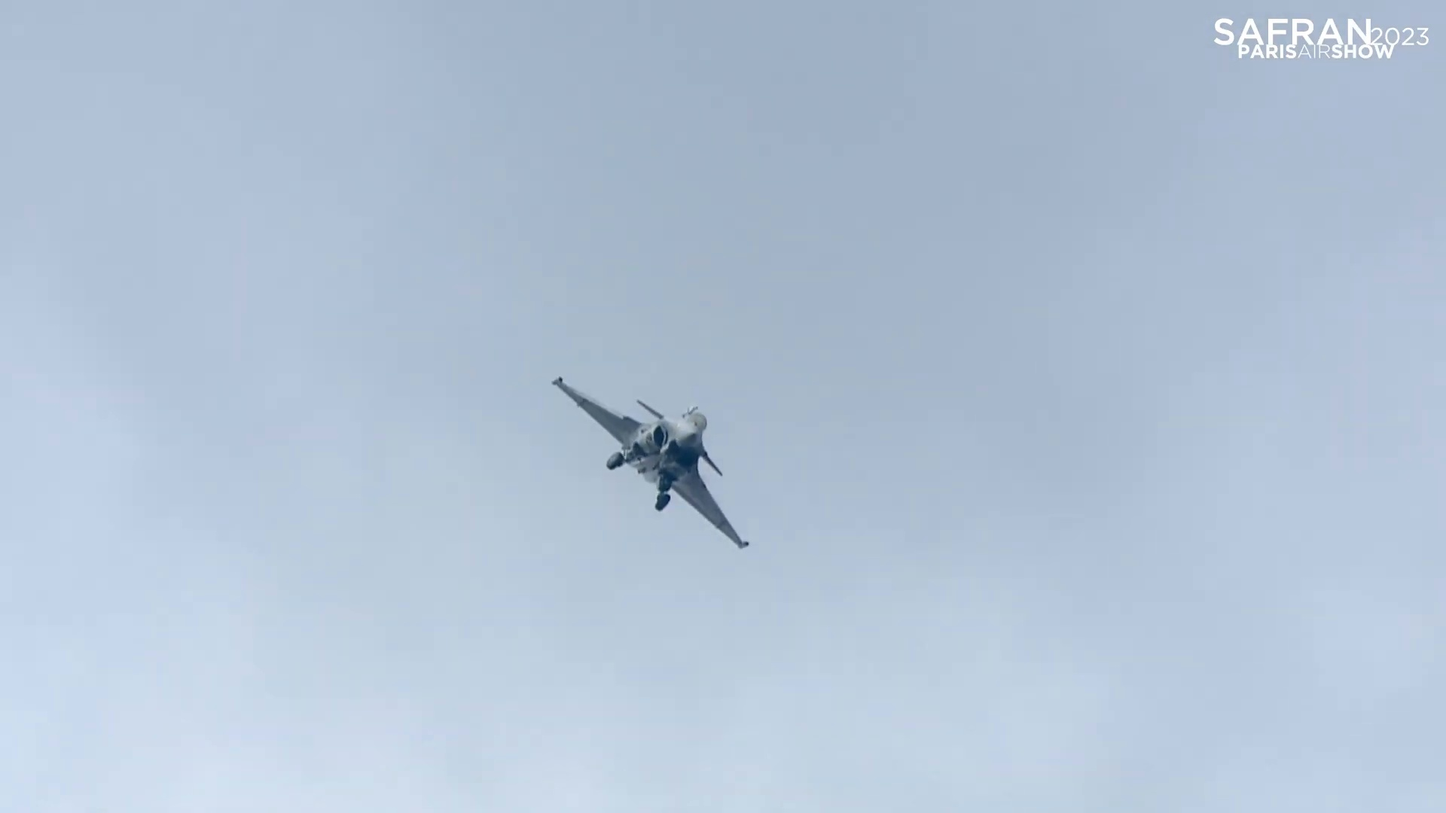Rafale: (552, 377, 752, 547)
